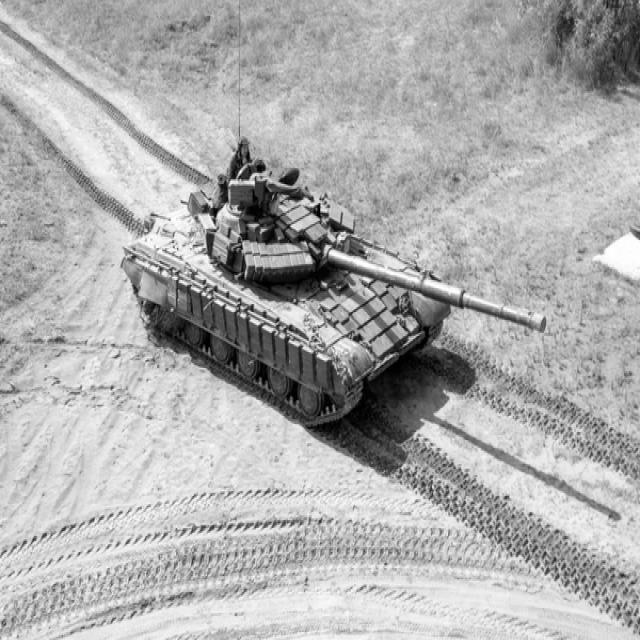Tank: (124, 176, 547, 431)
